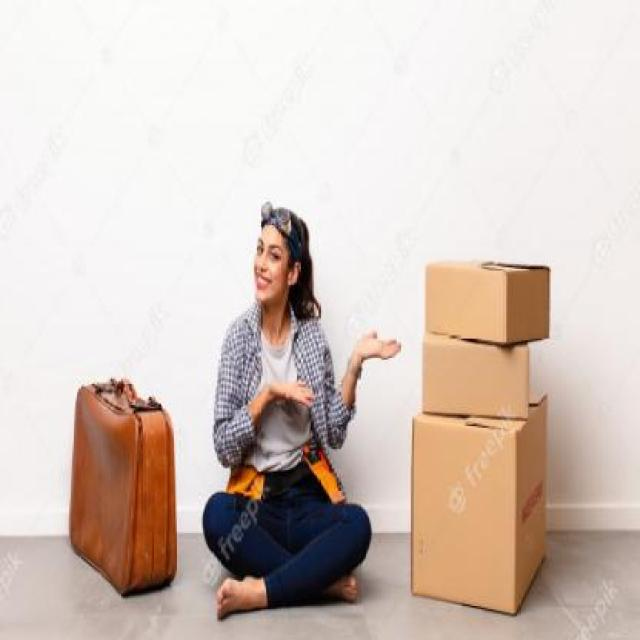box: (402, 392, 562, 632), (420, 235, 558, 355), (412, 327, 552, 430)
